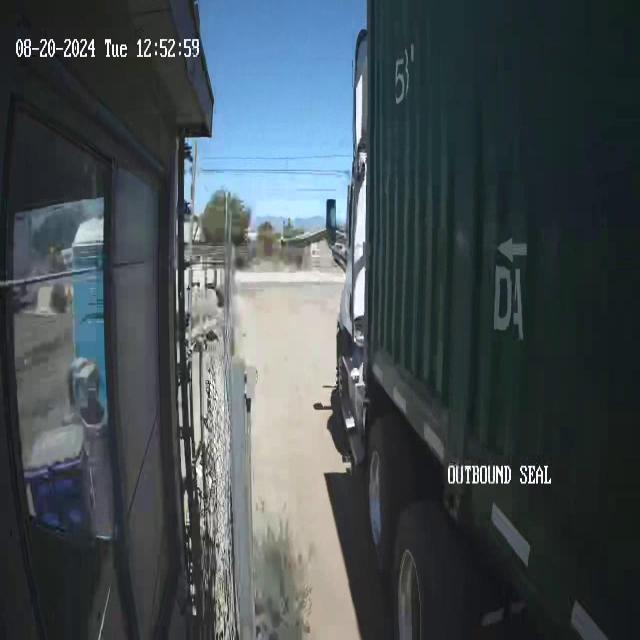TRUCK_CONTAINER: (326, 1, 639, 635)
